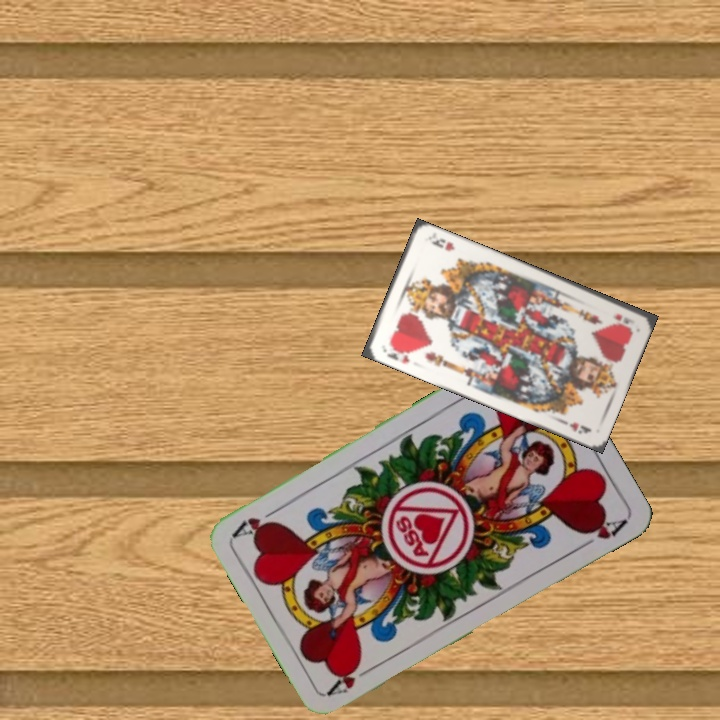HA: (324, 657, 378, 698)
HK: (379, 341, 412, 366), (609, 309, 637, 327)
